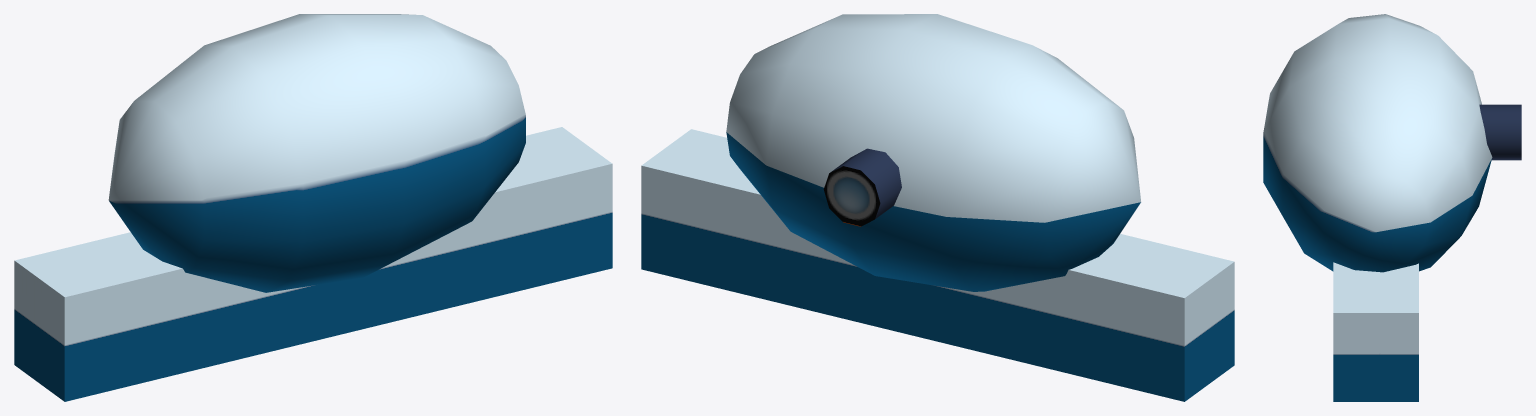
File: Camera_Moving.FBX
3 views of the same model, side by side, from view 1: azimuth 30°, elevation 25°; view 2: azimuth 150°, elevation 25°; view 3: azimuth 270°, elevation 25° (orthographic). The views are drawn at different scales.
Parts seen in each view (by area): view 1: Camera_Moving; view 2: Camera_Moving; view 3: Camera_Moving.
Part boxes in pixels (<box>): Camera_Moving: <box>14,14,612,401</box>; Camera_Moving: <box>641,14,1234,401</box>; Camera_Moving: <box>1263,14,1521,401</box>.
Size of the model in its own units: 10.21 by 5.15 by 4.91.
